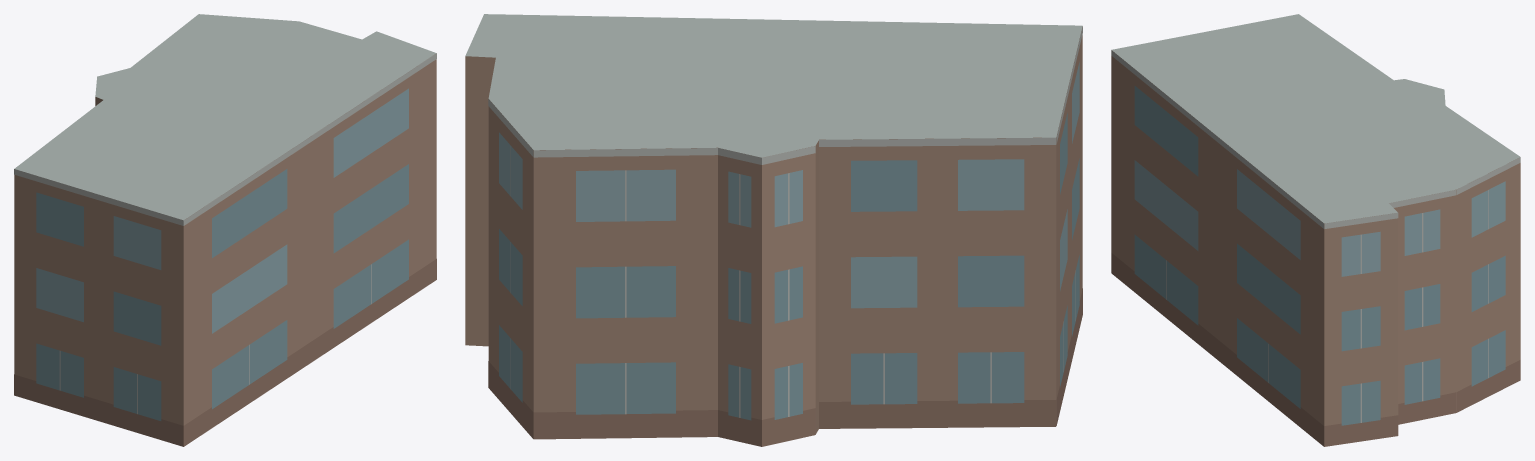
The model's file is survey-upis-32756945.glb.
3 renders of one model, left to right at view 1: azimuth 30°, elevation 25°; view 2: azimuth 150°, elevation 25°; view 3: azimuth 270°, elevation 25°, orthographic. The views are drawn at different scales.
Visible parts, largest first — view 1: survey-upis-32756945.tmp; view 2: survey-upis-32756945.tmp; view 3: survey-upis-32756945.tmp.
Part boxes in pixels (x1,y1,x2,y2): survey-upis-32756945.tmp: (14, 14, 436, 446); survey-upis-32756945.tmp: (465, 14, 1082, 446); survey-upis-32756945.tmp: (1111, 14, 1520, 446).
Size of the model in its own units: 19.32 by 9.6 by 15.96.
